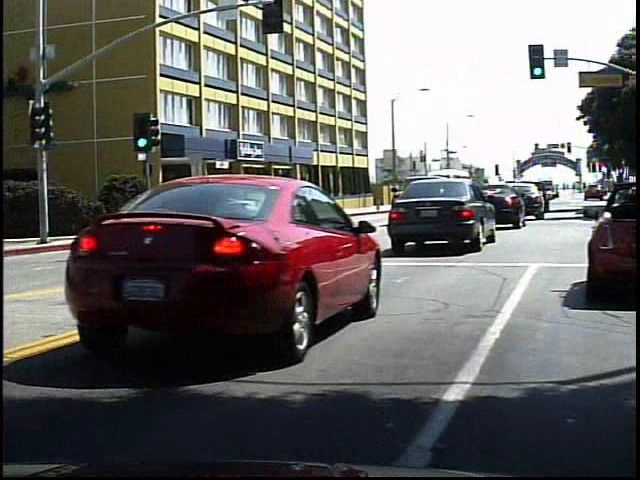person: (284, 186, 302, 226)
